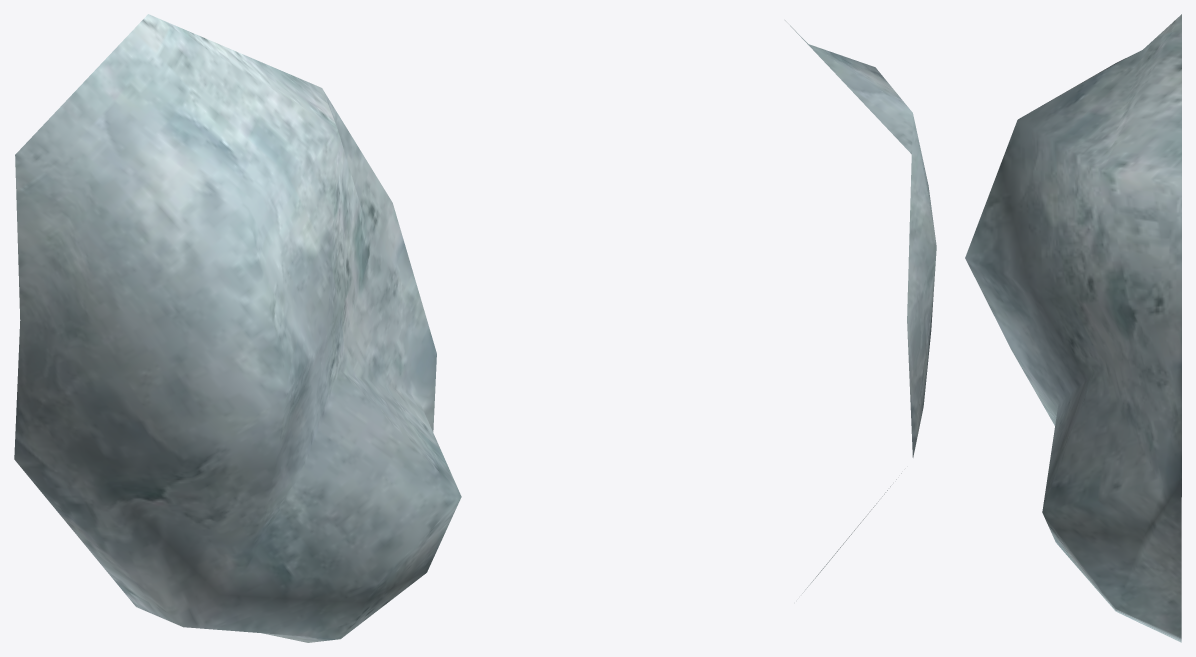
3 renders of one model, left to right at view 1: azimuth 30°, elevation 25°; view 2: azimuth 150°, elevation 25°; view 3: azimuth 270°, elevation 25°, orthographic. The views are drawn at different scales.
Parts seen in each view (by area): view 1: model_Object06; view 2: model_Object06; view 3: model_Object06.
Part boxes in pixels (x1,y1,x2,y2): model_Object06: (14,14,461,642); model_Object06: (785,20,936,593); model_Object06: (965,14,1181,642).
Size of the model in its own units: 2.75 by 4.16 by 1.45.
1 material, 1 textured.
